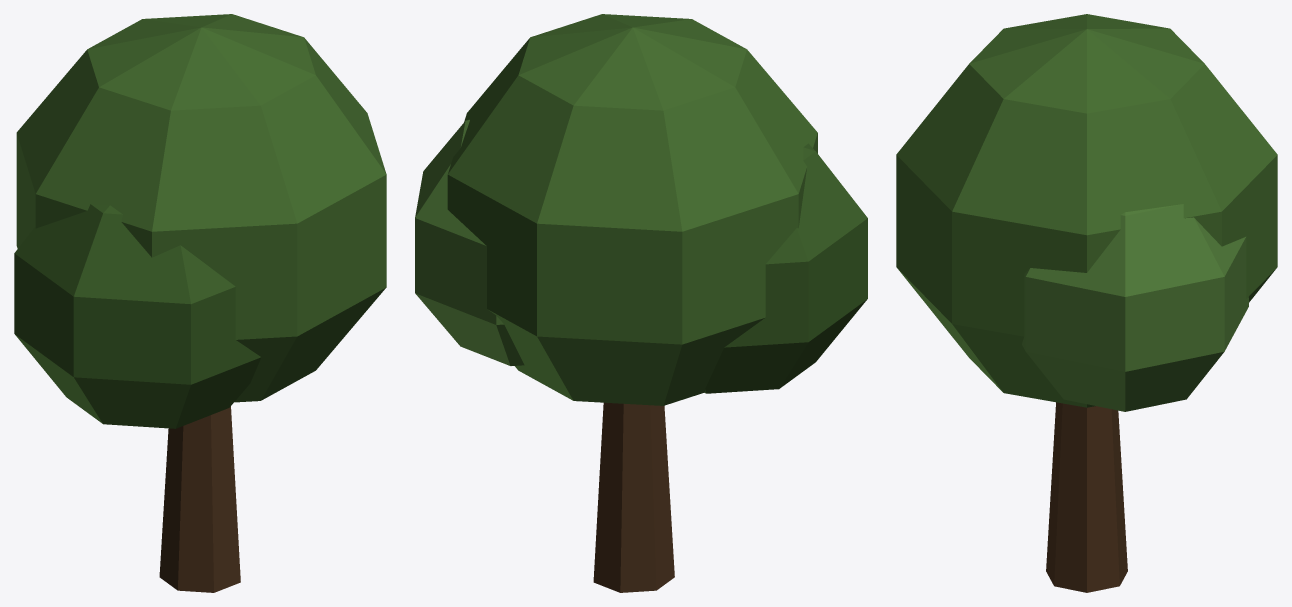
Rendered from prop_tree.glb.
3 renders of one model, left to right at view 1: azimuth 30°, elevation 25°; view 2: azimuth 150°, elevation 25°; view 3: azimuth 270°, elevation 25°, orthographic.
Visible parts, largest first — view 1: prop_tree; view 2: prop_tree; view 3: prop_tree.
Part boxes in pixels (left/top/right/bottom): prop_tree: left=14, top=14, right=386, bottom=592; prop_tree: left=415, top=14, right=867, bottom=592; prop_tree: left=896, top=14, right=1277, bottom=592.
Size of the model in its own units: 2.24 by 3.15 by 2.
